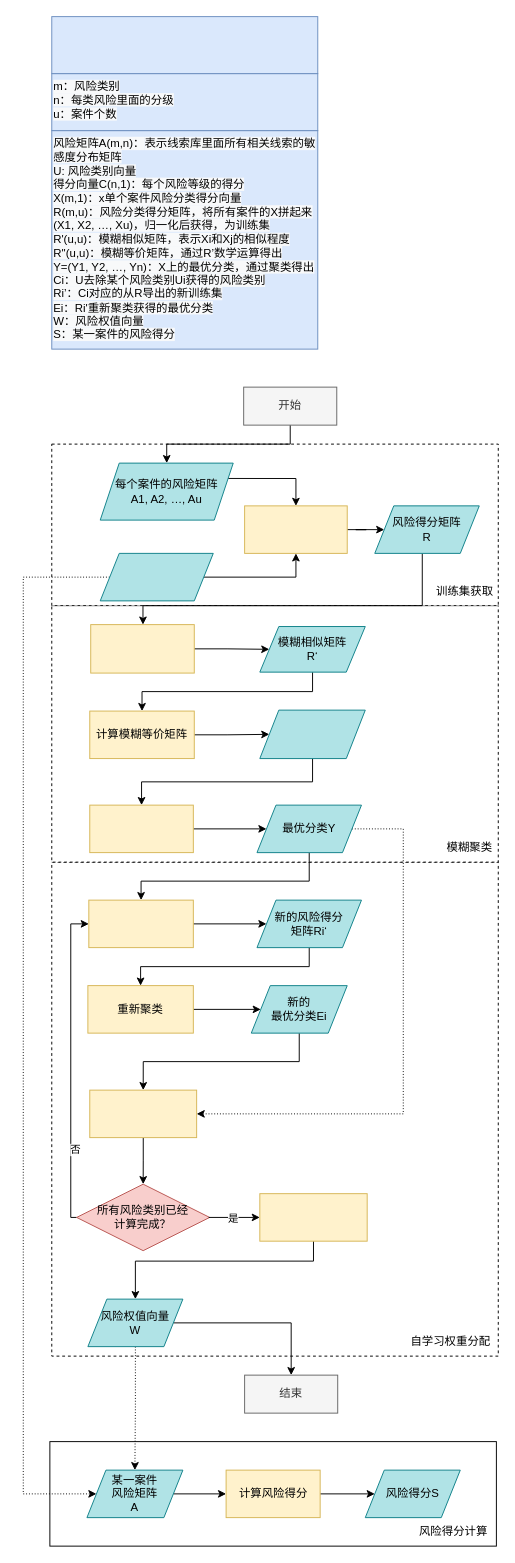
The diagram is 515 pixels wide and 1563 high, and some of its shapes have lost their labels. Here are the shapes that lost their labels. From the top down, the centre of each, then its label:
the point at 184,45: 案件：待评估风险等级的一类事件 线索：留置中所有的相关内容
the point at 295,529: 计算风险分类得分矩阵
the point at 156,576: 得分向量 C
the point at 142,648: 计算模糊相似矩阵
the point at 312,734: 模糊等价矩阵 R‘‘
the point at 141,828: 分类
the point at 140,923: 剔除某一风险类别的数据
the point at 143,1113: 计算对该类别依赖程度
the point at 313,1217: 计算风险权值向量
